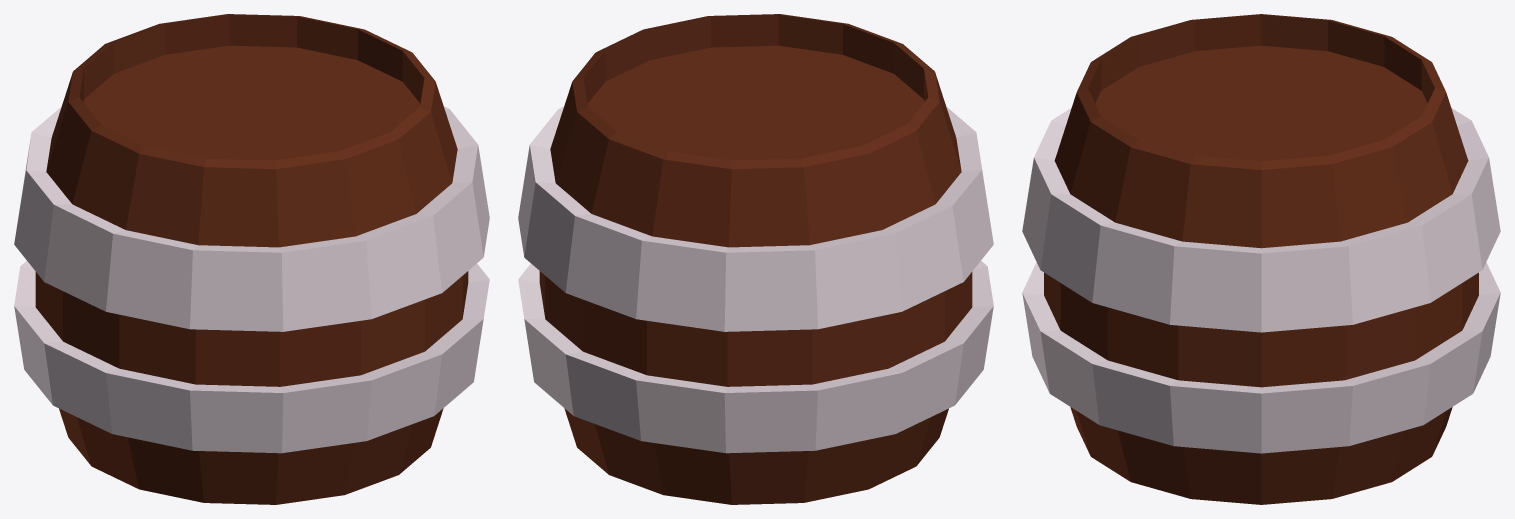
File: barrel.glb
3 renders of one model, left to right at view 1: azimuth 30°, elevation 25°; view 2: azimuth 150°, elevation 25°; view 3: azimuth 270°, elevation 25°, orthographic.
Visible parts, largest first — view 1: Cylinder; view 2: Cylinder; view 3: Cylinder.
Boxes of the visible parts, x1,y1,x2,y2 form: Cylinder: (14,14,489,504); Cylinder: (518,14,993,504); Cylinder: (1022,14,1500,504).
Bounding box in the file's own units: 2.59 × 2.05 × 2.59.
